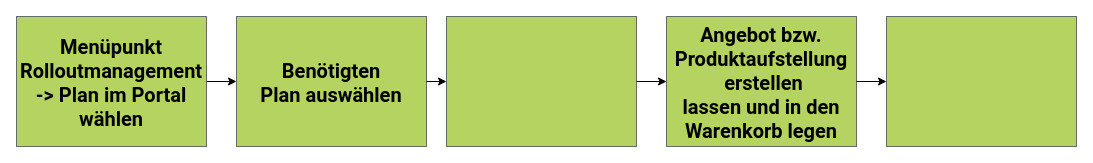
This 1093x163 diagram has some shape labels left out. Here are the shapes that lost their labels. From the top down, the box of each, then its label:
(446, 16, 636, 146): Kassenbetreiber (POSOperator) und Standort (Filiale) auswählen
(886, 16, 1076, 146): Verbindlich bestellen
